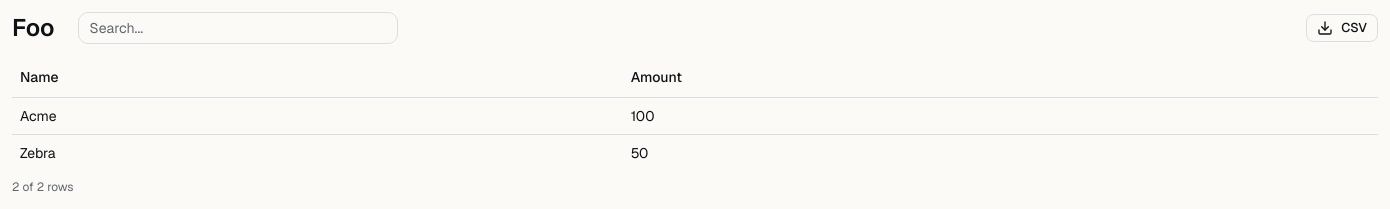
Test: DataGrid › trims trailing whitespace from the search term
This screenshot has width=1390, height=209.
Type "Acme " into the field with placeholder "Search...".
click(238, 28); type("Acme ")  # box [78, 12, 398, 44]
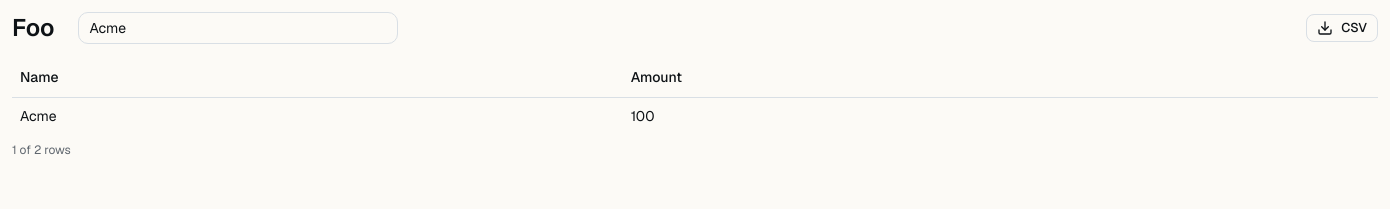
Expected: the text "Acme" is shown, [12, 97, 623, 134]
Now the text "Zebra" is gone
